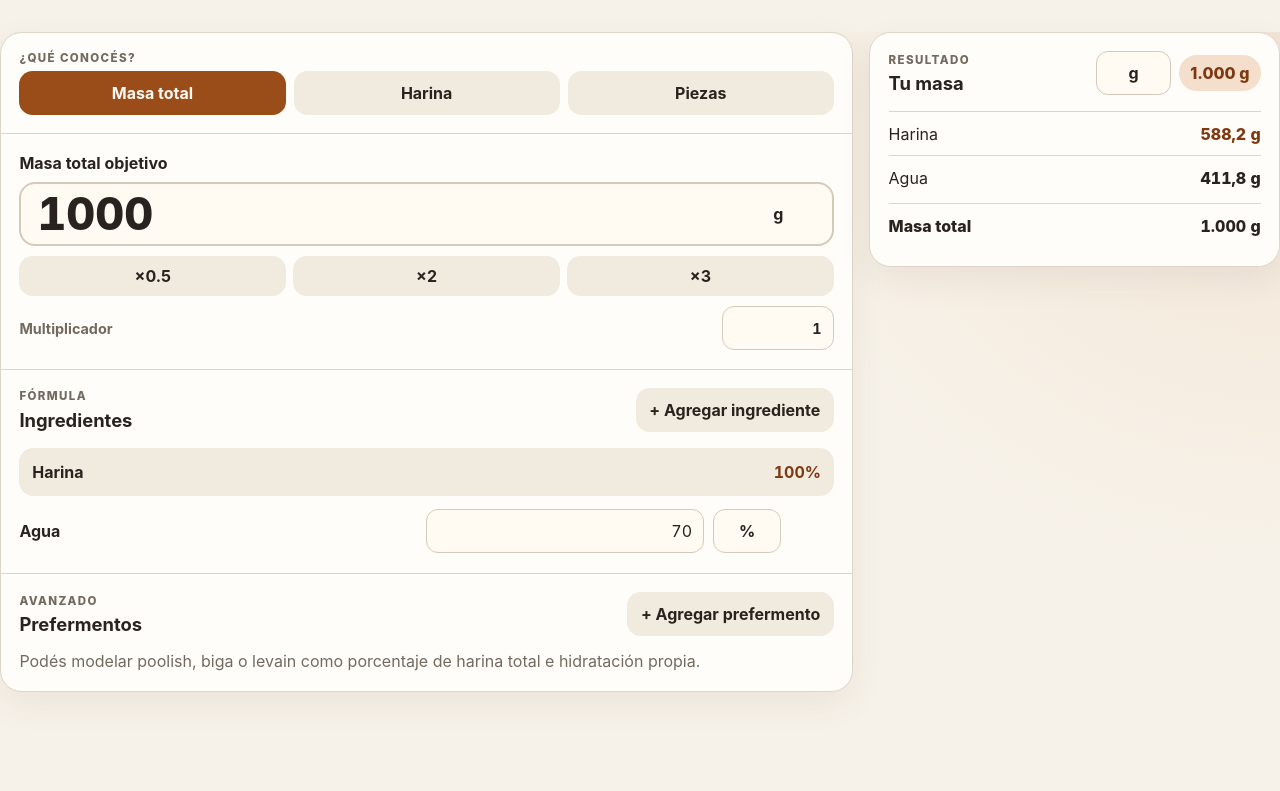
Test: PrefermentEditor › rejects multiple preferments that exceed formula flour or water
This screenshot has width=1280, height=791.
Click the button "+ Agregar prefermento" at x=731, y=614, box top-left (627, 592), bottom-right (834, 636)
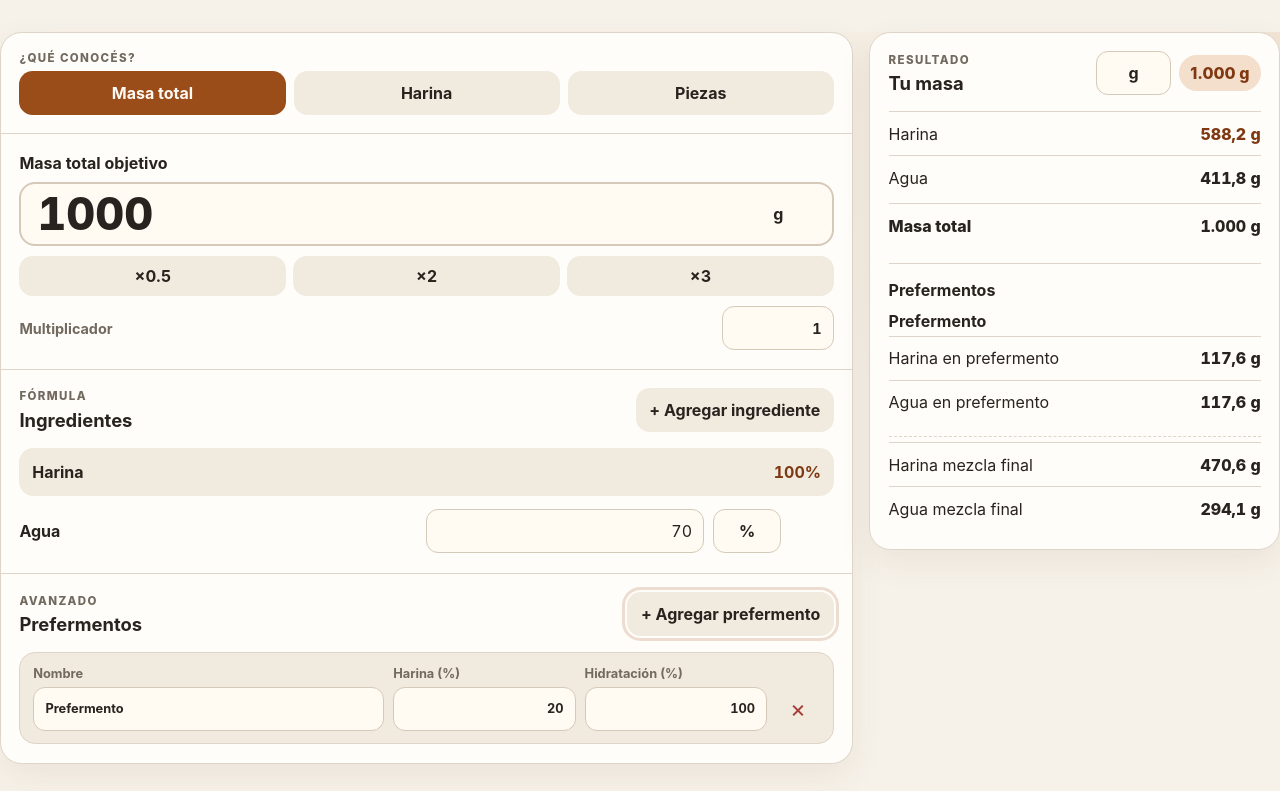
Click the button "+ Agregar prefermento" at x=731, y=614, box top-left (627, 592), bottom-right (834, 636)
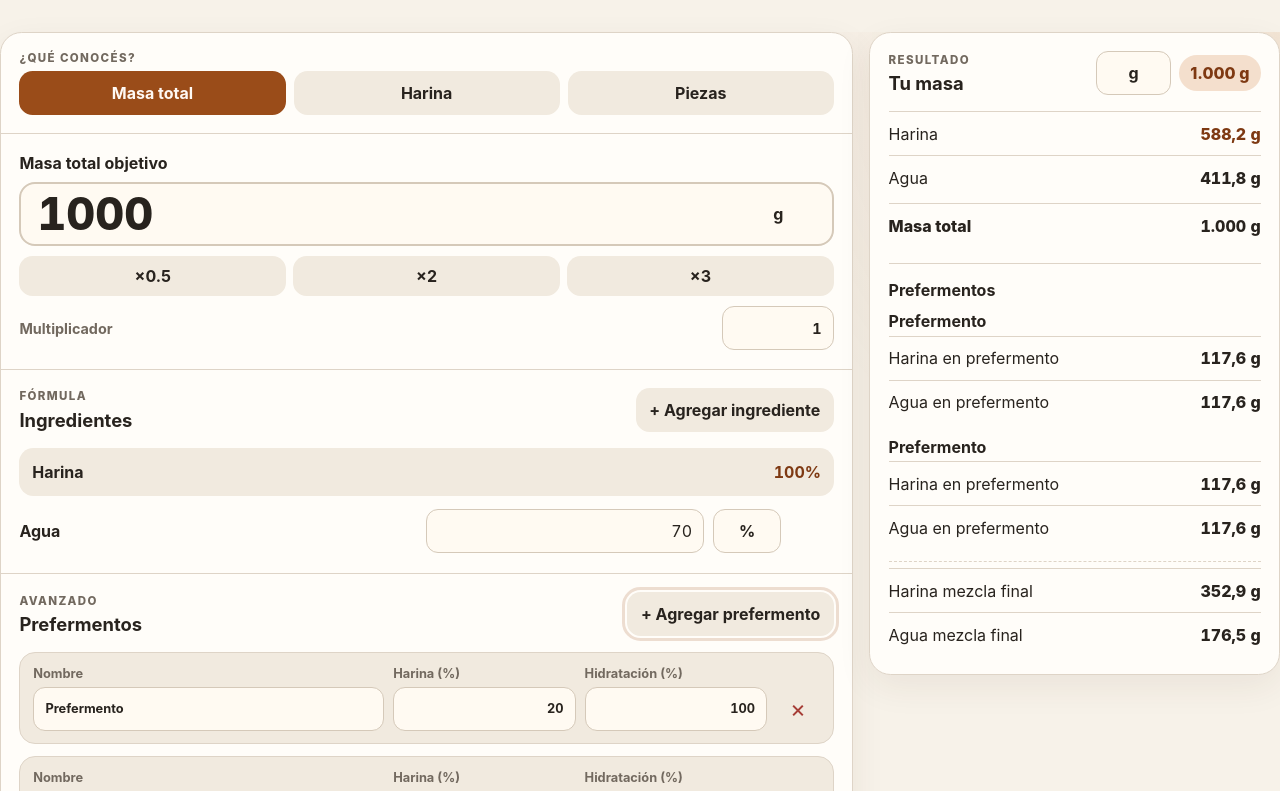
Replace the text in the field named "Harina prefermentada (%)" with "60" at x=484, y=709, box top-left (393, 687), bottom-right (576, 731)
(page scrolled)
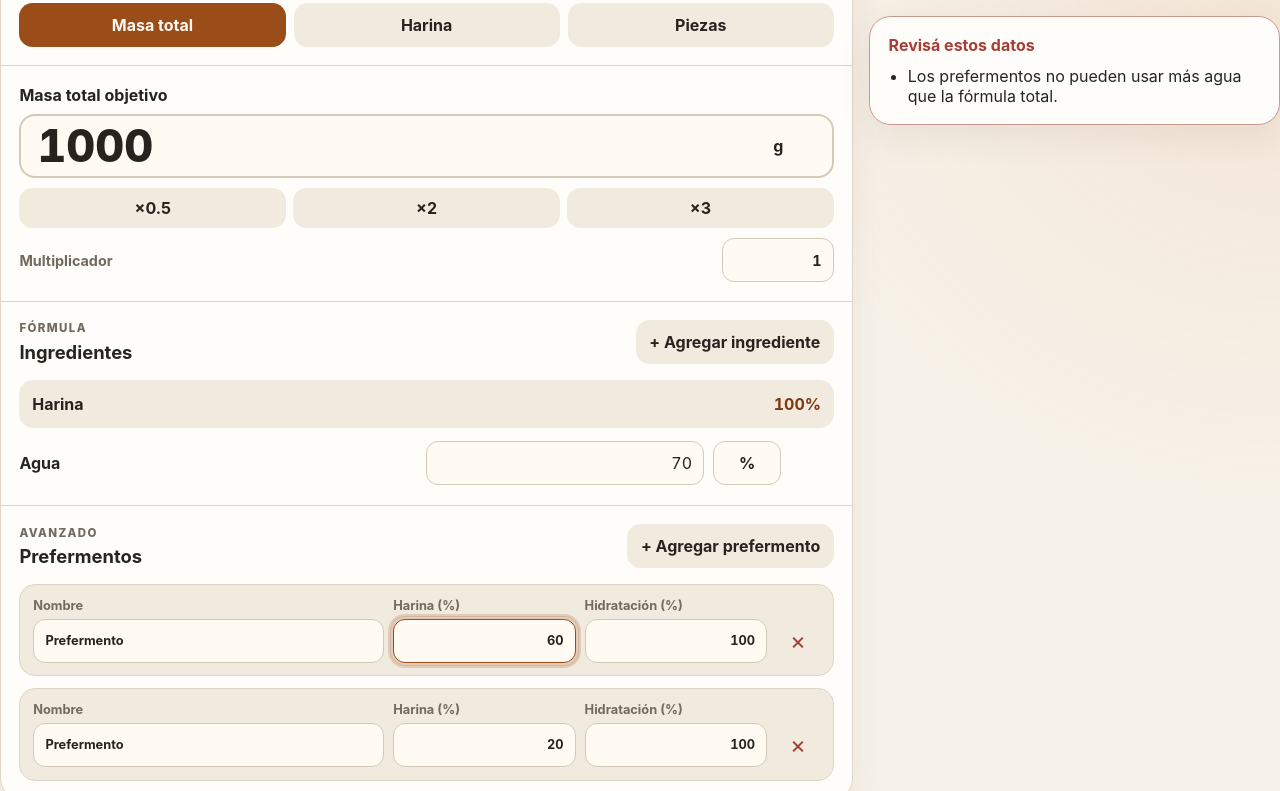
Replace the text in the field named "Harina prefermentada (%)" with "50" at x=484, y=745, box top-left (393, 723), bottom-right (576, 767)
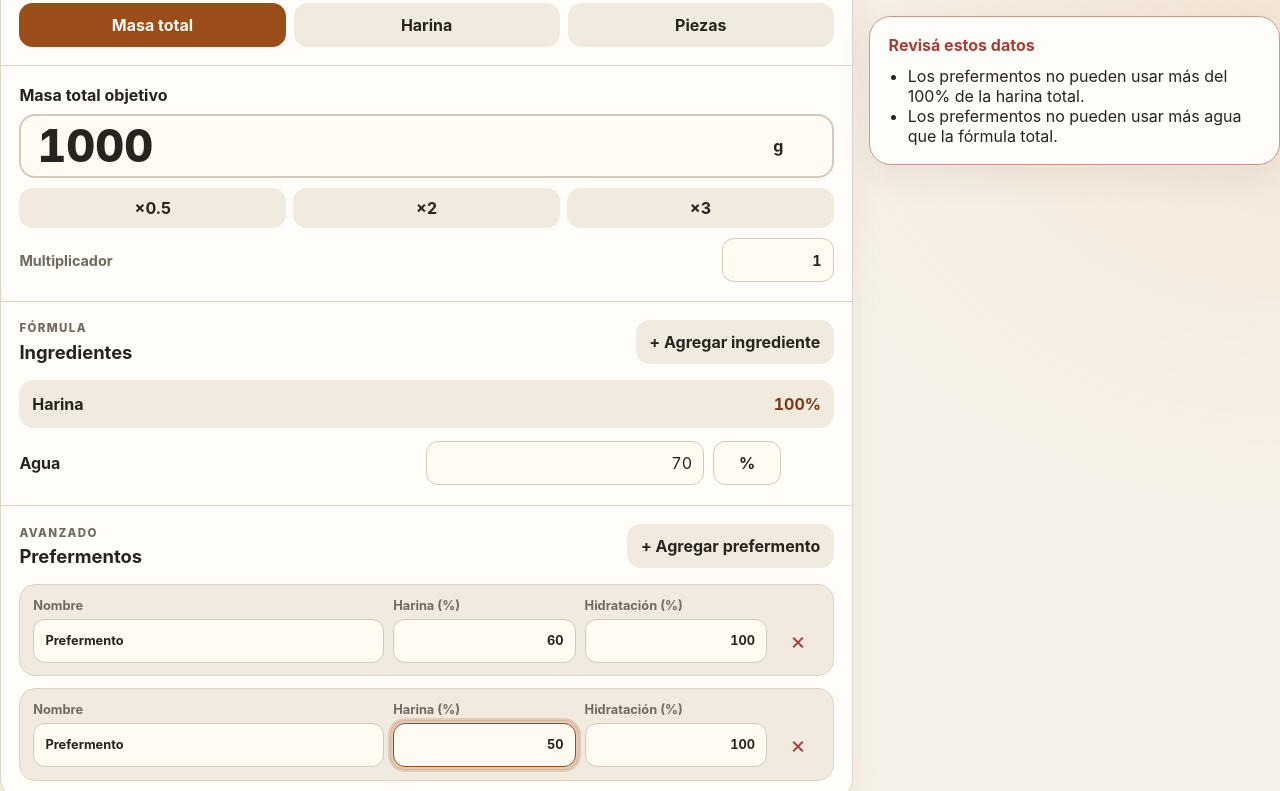
Expected: the text "Resultado" is not shown
Result: the message shows "Los prefermentos no pueden usar más del 100% de la harina total." at top-left (908, 66), bottom-right (1227, 106)
